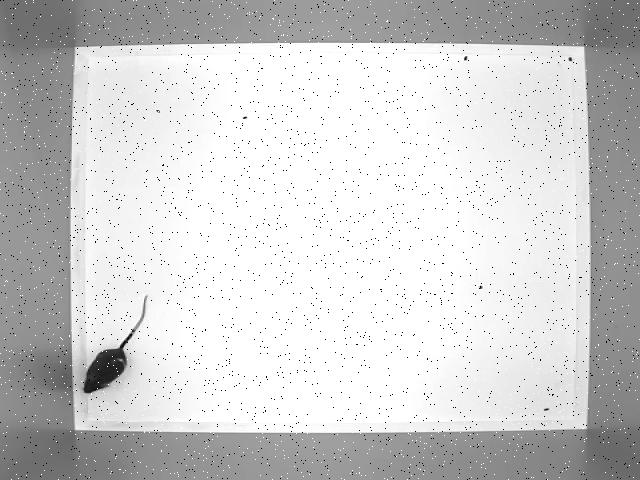Tikus: (83, 292, 148, 394)
